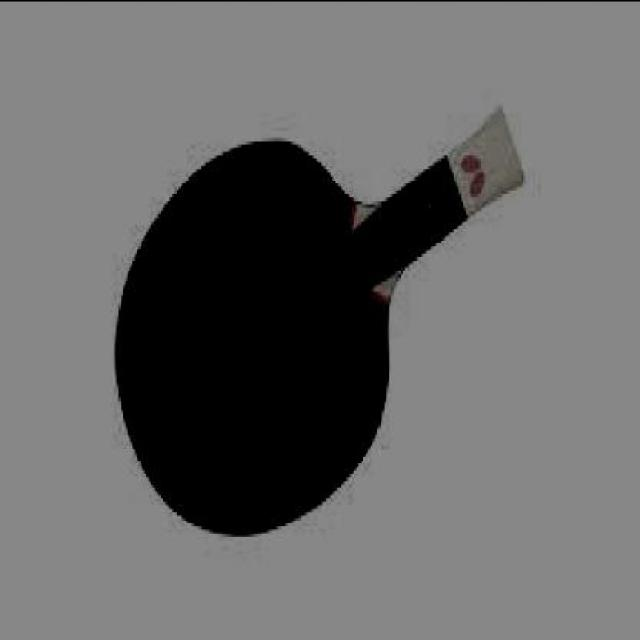table_tennis_racket: (110, 138, 405, 544)
